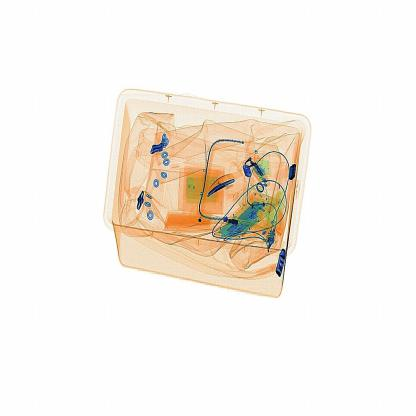pliers: (201, 168, 245, 204)
